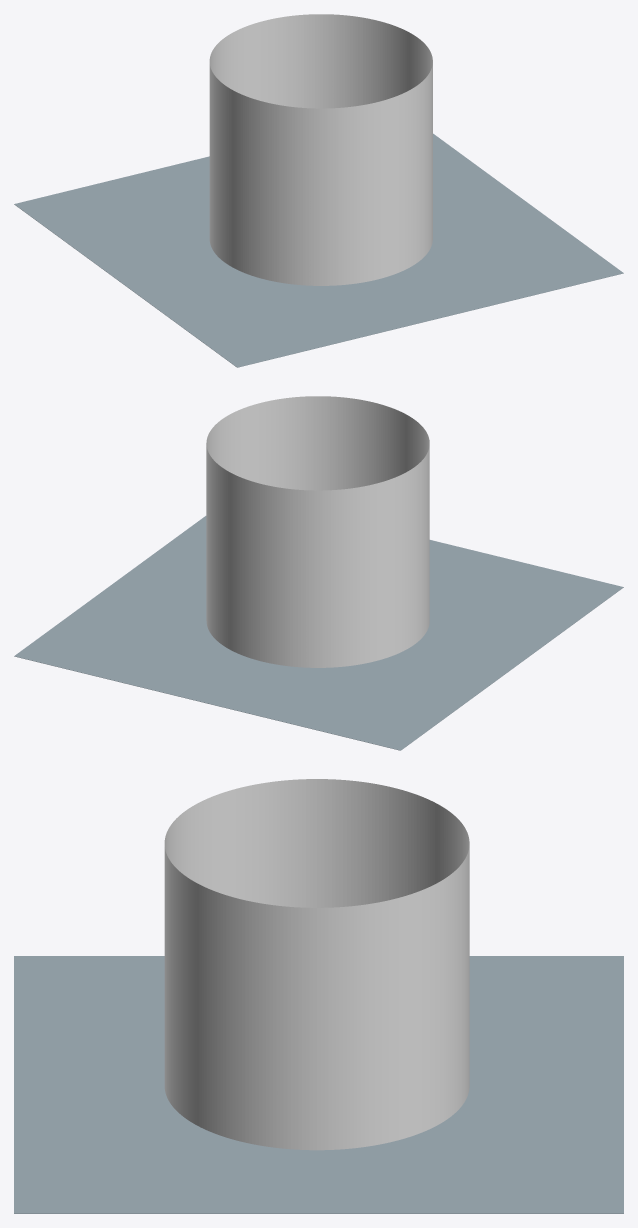
The model's file is depto.glb.
The picture shows the model from 3 angles, top to bottom: view 1: azimuth 30°, elevation 25°; view 2: azimuth 150°, elevation 25°; view 3: azimuth 270°, elevation 25°; orthographic projection. The views are drawn at different scales.
Parts seen in each view (by area): view 1: Vista, Lago; view 2: Vista, Lago; view 3: Vista, Lago.
Part boxes in pixels (<box>): Vista: <box>209,14,432,285</box>; Lago: <box>14,133,623,367</box>; Vista: <box>206,396,429,667</box>; Lago: <box>14,516,623,750</box>; Vista: <box>164,779,469,1150</box>; Lago: <box>14,956,623,1213</box>.
Size of the model in its own units: 1600 by 702 by 1600.
